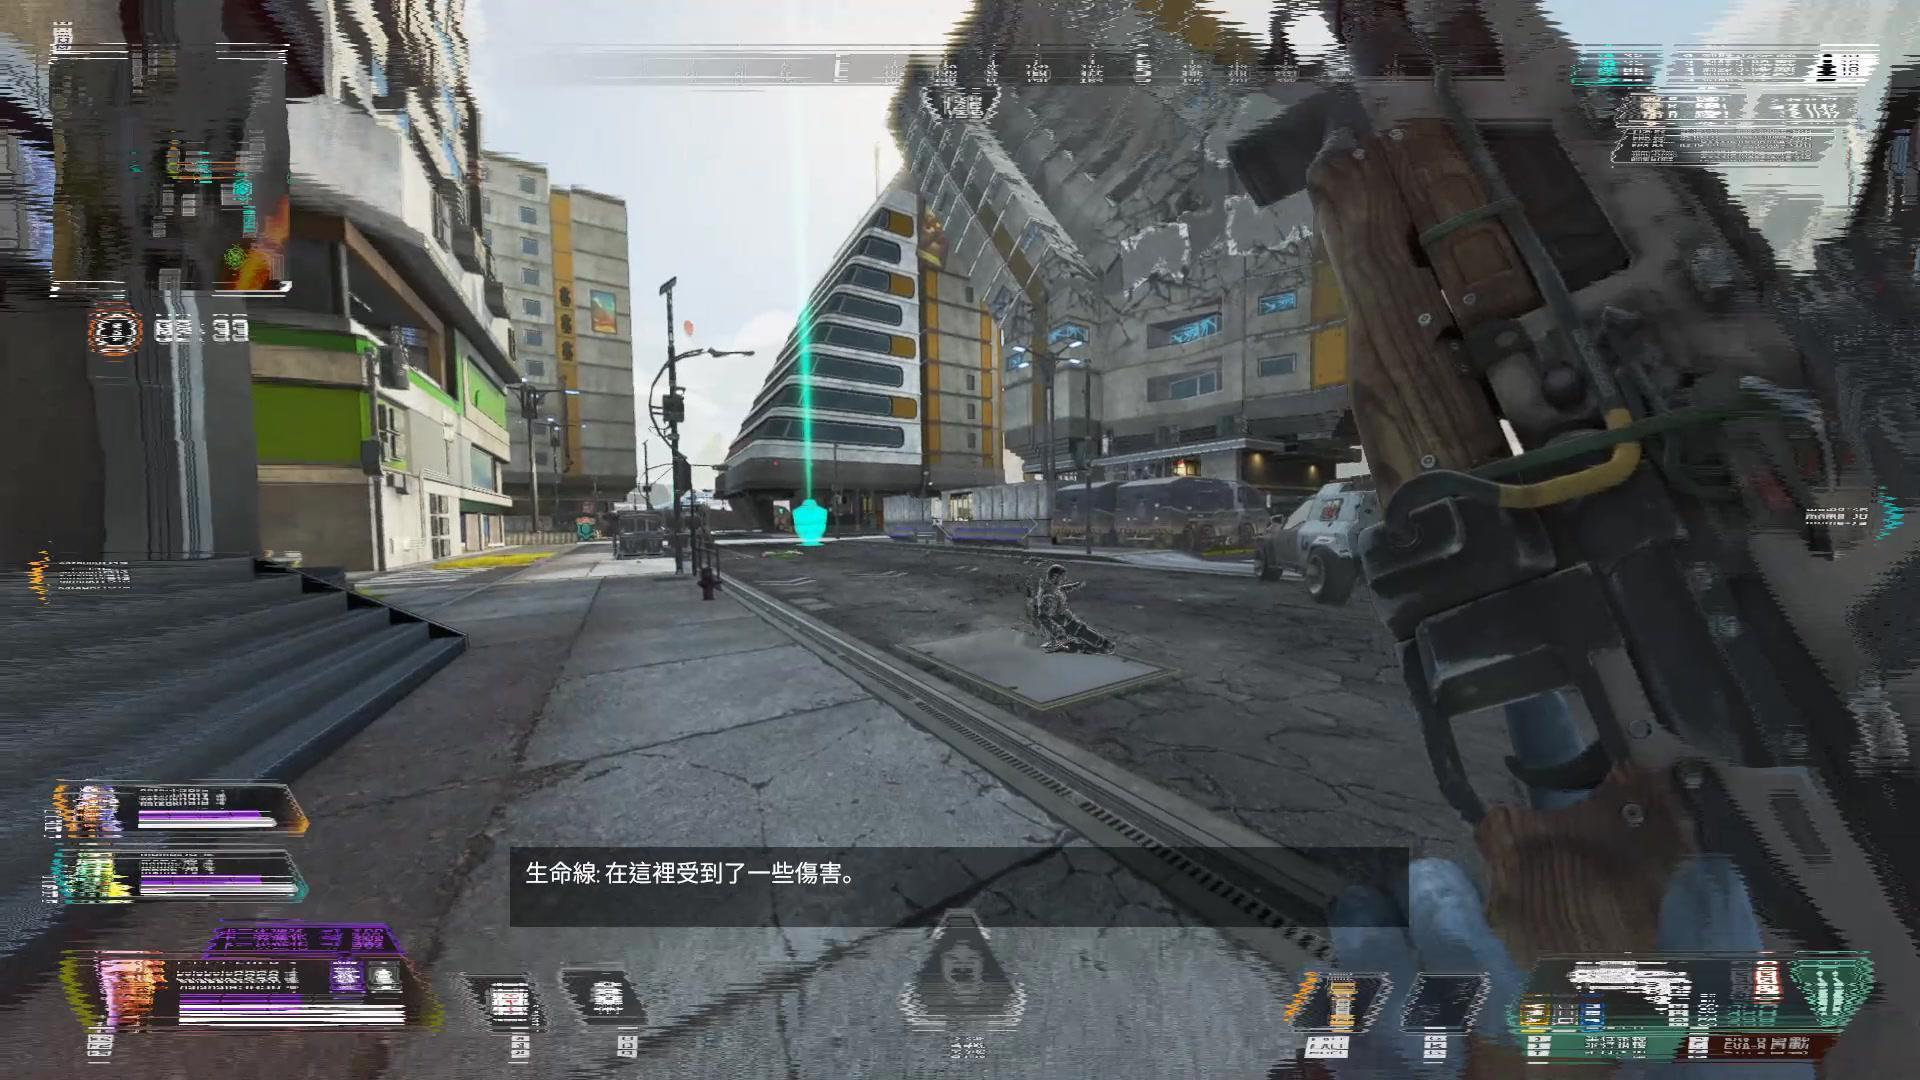avatar: (1030, 567, 1117, 655)
